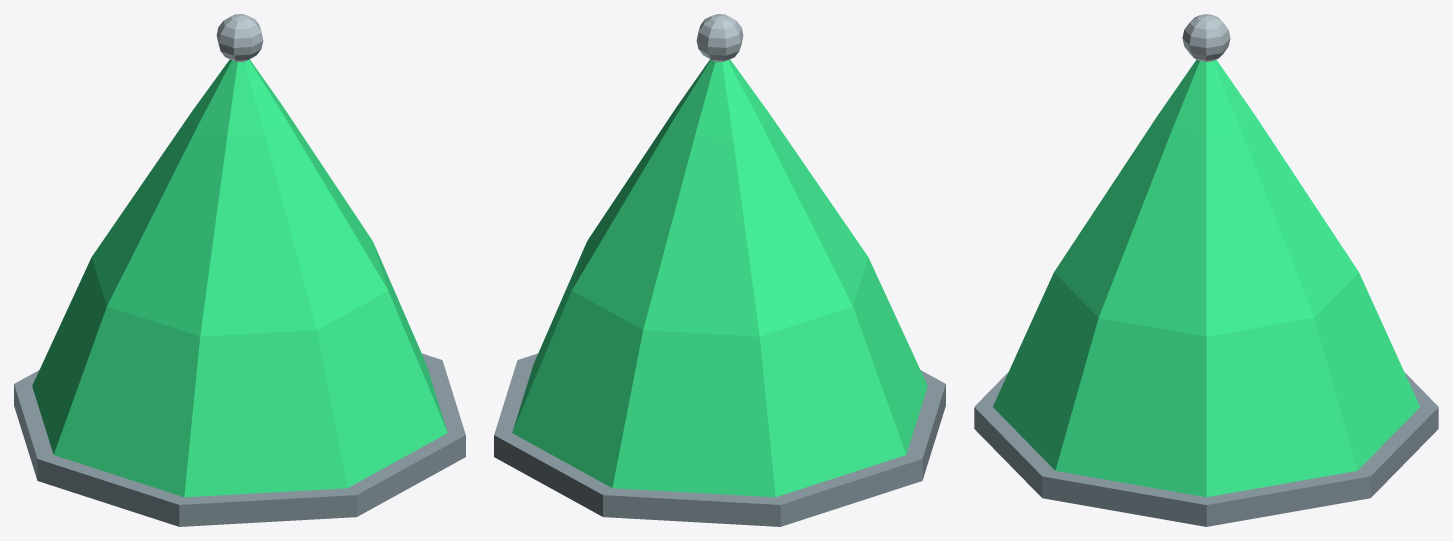
The picture shows the model from 3 angles, left to right: view 1: azimuth 30°, elevation 25°; view 2: azimuth 150°, elevation 25°; view 3: azimuth 270°, elevation 25°; orthographic projection.
Visible parts, largest first — view 1: Rocket_Ship_Circle.013_Rocket_Ship_Circle.018; view 2: Rocket_Ship_Circle.013_Rocket_Ship_Circle.018; view 3: Rocket_Ship_Circle.013_Rocket_Ship_Circle.018.
Boxes of the visible parts, left/top/right/bottom form: Rocket_Ship_Circle.013_Rocket_Ship_Circle.018: left=14, top=14, right=465, bottom=526; Rocket_Ship_Circle.013_Rocket_Ship_Circle.018: left=494, top=14, right=945, bottom=526; Rocket_Ship_Circle.013_Rocket_Ship_Circle.018: left=974, top=14, right=1438, bottom=526.
Bounding box in the file's own units: 3.52 × 3.45 × 3.52.
